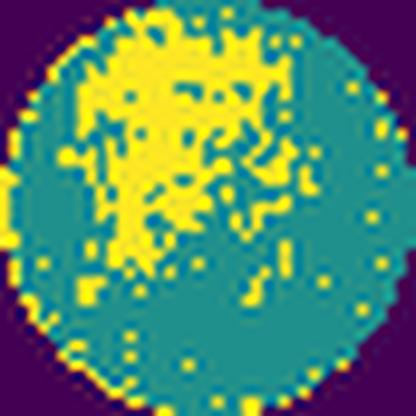Loc: (59, 6, 295, 279)
